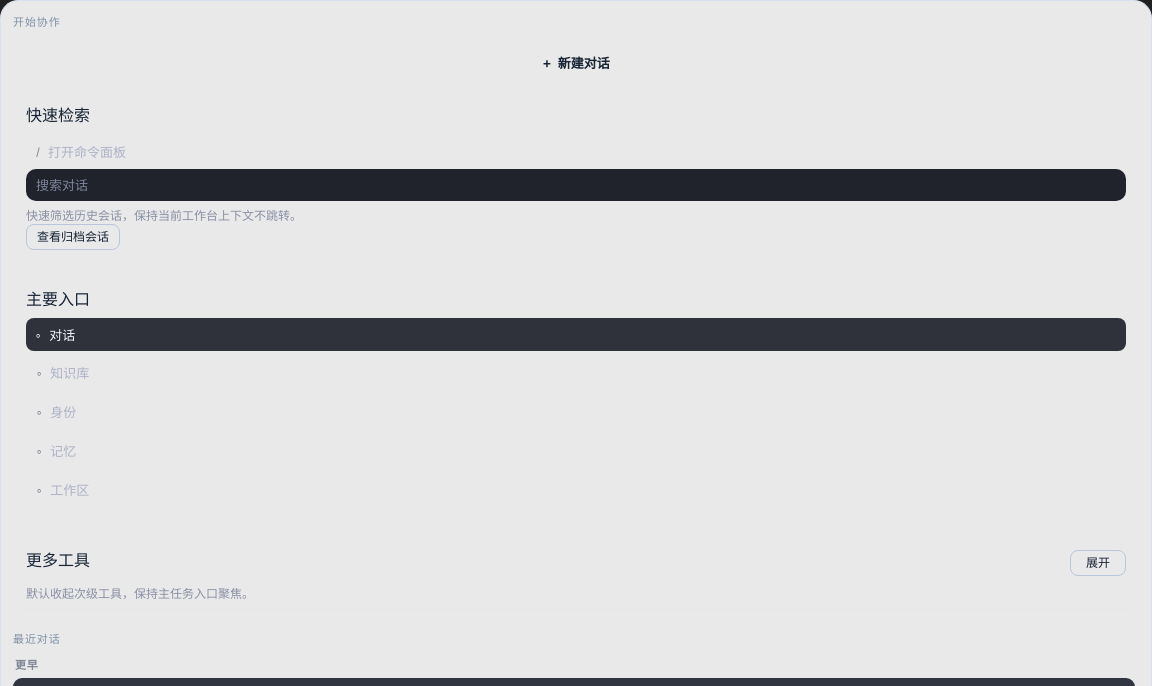
it: LeftSidebar › 筛选无结果时显示空态提示
Type "不存在" into the field with test id "session-search-input" at (576, 185), box [26, 169, 1126, 201]
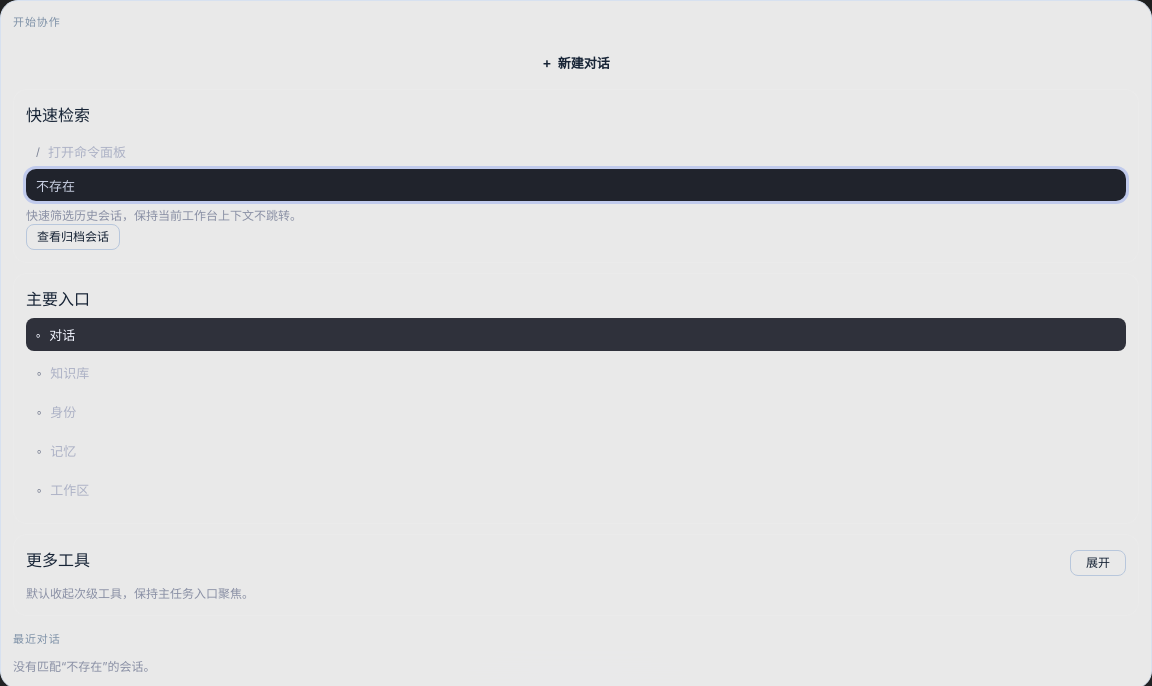
Now the text "没有匹配“不存在”的会话。" is shown, box [13, 659, 156, 674]
